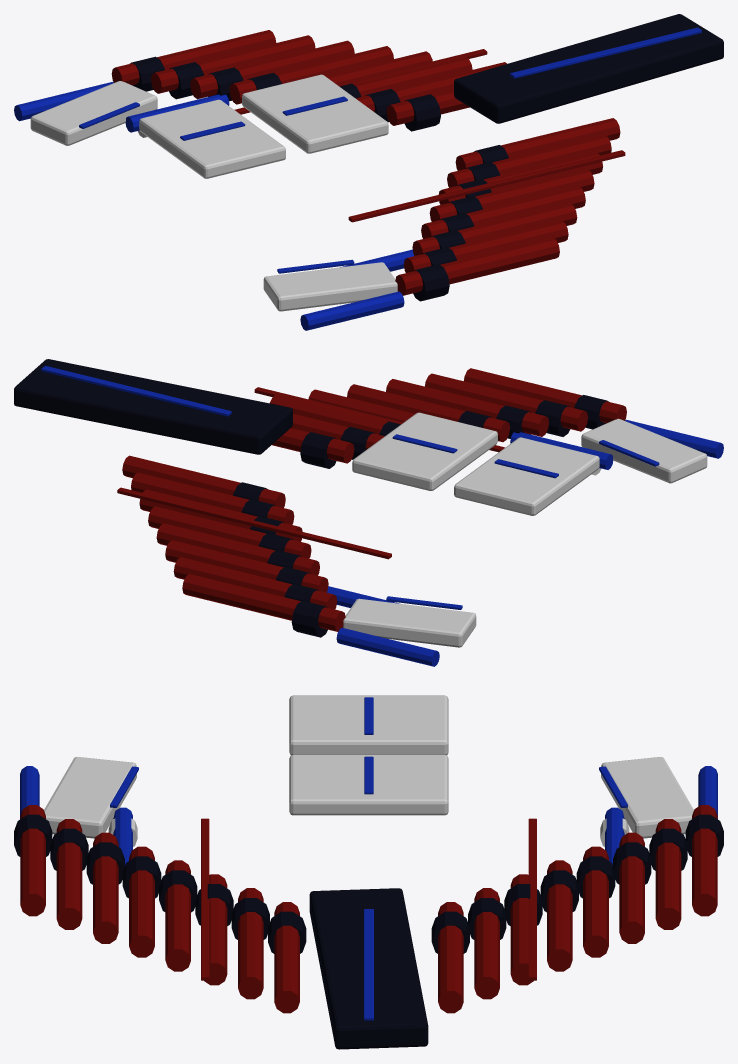
Rendered from destiny_lord_bow_pdx_source.obj.
3 renders of one model, top to bottom at view 1: azimuth 30°, elevation 25°; view 2: azimuth 150°, elevation 25°; view 3: azimuth 270°, elevation 25°, orthographic. The views are drawn at different scales.
Visible parts, largest first — view 1: DL_Bow_Crest, DL_Spine_Armor_0, DL_Spine_Armor_1, DL_Wing_Armor_-1_0, DL_Wing_Armor_1_0, DL_Turret_T_-1_7, DL_Turret_T_1_6, DL_Turret_T_1_5, DL_Turret_T_-1_3, DL_Turret_T_-1_5, DL_Turret_T_-1_0, DL_Turret_T_-1_6 (+22 smaller); view 2: DL_Bow_Crest, DL_Spine_Armor_1, DL_Spine_Armor_0, DL_Wing_Armor_1_0, DL_Wing_Armor_-1_0, DL_Turret_T_1_7, DL_Turret_T_-1_5, DL_Turret_T_-1_6, DL_Turret_T_1_0, DL_Turret_T_1_3, DL_Turret_T_1_4, DL_Turret_T_1_5 (+22 smaller); view 3: DL_Bow_Crest, DL_Spine_Armor_0, DL_Spine_Armor_1, DL_Wing_Armor_-1_0, DL_Wing_Armor_1_0, DL_Turret_T_-1_6, DL_Turret_T_1_6, DL_Turret_T_-1_3, DL_Turret_T_1_3, DL_Turret_T_-1_4, DL_Turret_T_1_4, DL_Turret_T_-1_0 (+32 smaller).
Boxes of the visible parts, <box> form: DL_Bow_Crest: <box>454,14,723,123</box>; DL_Spine_Armor_0: <box>242,74,388,153</box>; DL_Spine_Armor_1: <box>139,99,285,178</box>; DL_Wing_Armor_-1_0: <box>263,262,397,311</box>; DL_Wing_Armor_1_0: <box>30,81,157,145</box>; DL_Turret_T_-1_7: <box>395,237,559,295</box>; DL_Turret_T_1_6: <box>151,35,315,93</box>; DL_Turret_T_1_5: <box>190,40,354,99</box>; DL_Turret_T_-1_3: <box>429,169,594,221</box>; DL_Turret_T_-1_5: <box>412,203,577,255</box>; DL_Turret_T_-1_0: <box>455,118,620,170</box>; DL_Turret_T_-1_6: <box>404,220,568,272</box>; DL_Bow_Crest: <box>14,359,292,454</box>; DL_Spine_Armor_1: <box>454,437,599,515</box>; DL_Spine_Armor_0: <box>352,412,497,490</box>; DL_Wing_Armor_1_0: <box>343,598,476,647</box>; DL_Wing_Armor_-1_0: <box>581,418,707,483</box>; DL_Turret_T_1_7: <box>182,574,345,631</box>; DL_Turret_T_-1_5: <box>386,379,548,436</box>; DL_Turret_T_-1_6: <box>425,373,587,431</box>; DL_Turret_T_1_0: <box>122,455,285,507</box>; DL_Turret_T_1_3: <box>148,506,311,558</box>; DL_Turret_T_1_4: <box>156,523,319,575</box>; DL_Turret_T_1_5: <box>165,540,328,592</box>; DL_Bow_Crest: <box>309,888,428,1049</box>; DL_Spine_Armor_0: <box>289,754,448,815</box>; DL_Spine_Armor_1: <box>289,695,448,755</box>; DL_Wing_Armor_-1_0: <box>44,757,136,838</box>; DL_Wing_Armor_1_0: <box>601,757,693,838</box>; DL_Turret_T_-1_6: <box>56,819,82,929</box>; DL_Turret_T_1_6: <box>655,819,681,929</box>; DL_Turret_T_-1_3: <box>165,860,190,971</box>; DL_Turret_T_1_3: <box>547,860,572,971</box>; DL_Turret_T_-1_4: <box>129,846,154,957</box>; DL_Turret_T_1_4: <box>583,846,608,957</box>; DL_Turret_T_-1_0: <box>274,902,299,1013</box>.
Bounding box in the file's own units: 32.53 × 5.05 × 30.34.
